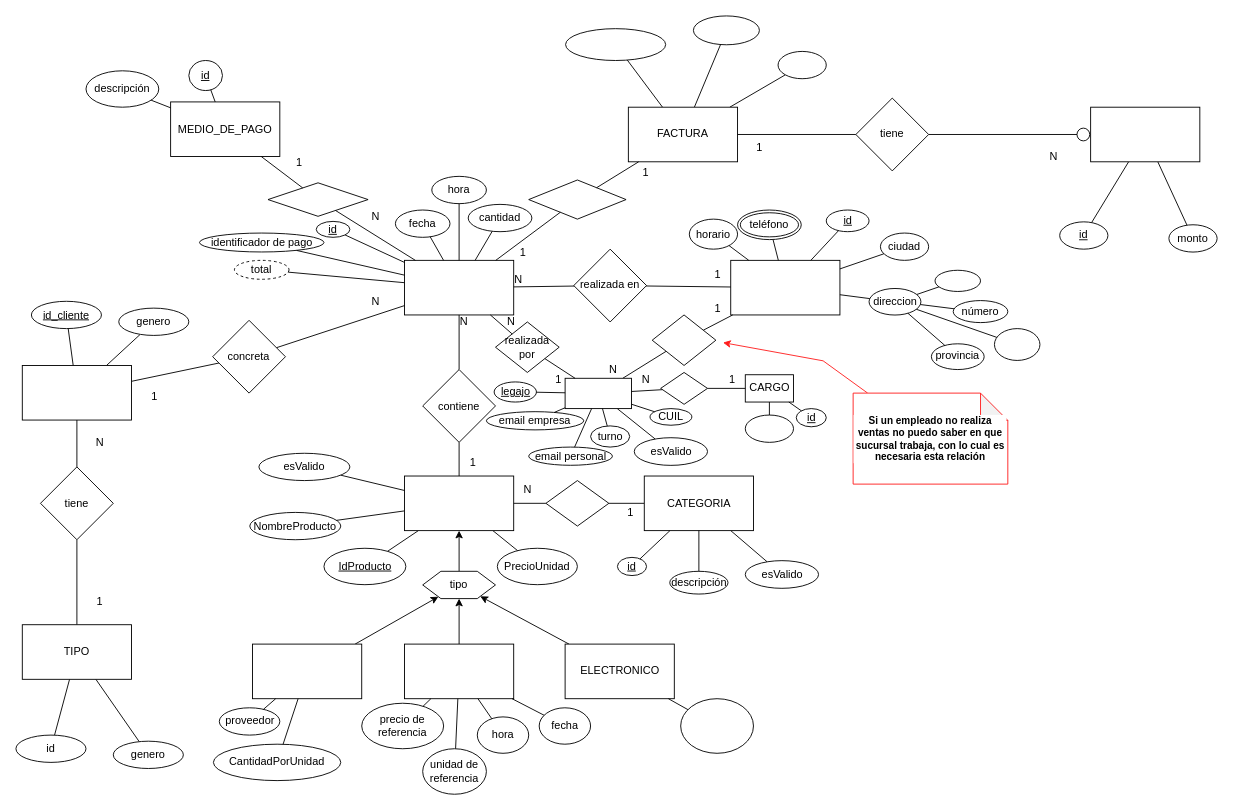
Some shapes in this 1233 by 811 pixel diagram are drawn without their labels. Each missing label, with the centre of its shape:
"calle" belongs at (x=957, y=280).
"CLIENTE" belongs at (x=76, y=392).
"corresponde a" belongs at (x=317, y=199).
"código postal" belongs at (x=1017, y=344).
"EMPLEADO" belongs at (x=598, y=393).
"estado" belongs at (x=801, y=65).
"goza de" belongs at (x=577, y=503).
"ID Factura" belongs at (x=726, y=30).
"IMPORTADO" belongs at (x=307, y=671).
"nombre" belongs at (x=769, y=428).
"NOTA_CREDITO" belongs at (x=1145, y=134).
"posee" belongs at (x=684, y=388).
"precio unidad en dólares" belongs at (x=716, y=725).
"PRODUCTO" belongs at (x=459, y=503).
"SUCURSAL" belongs at (x=785, y=287).
"tiene asociada" belongs at (x=577, y=199).
"Tipo de Factura" belongs at (x=615, y=44).
"trabaja en" belongs at (x=683, y=339).
"VARIOS" belongs at (x=459, y=671).
"VENTA" belongs at (x=459, y=287).
